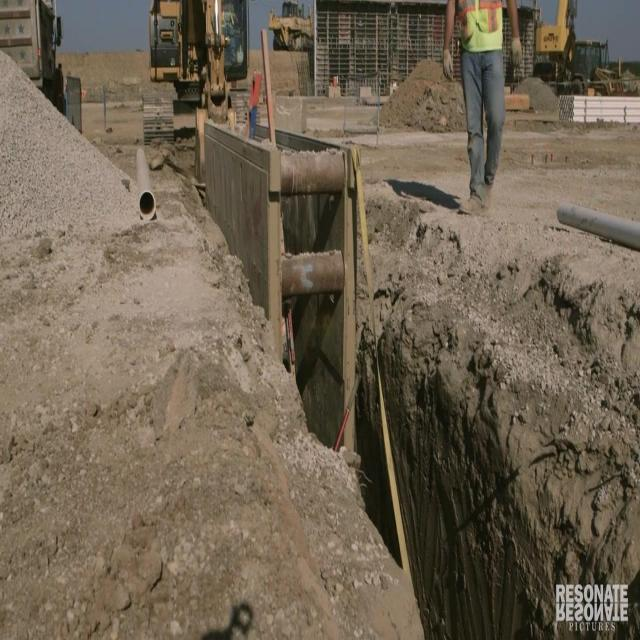Vest: (455, 0, 502, 45)
